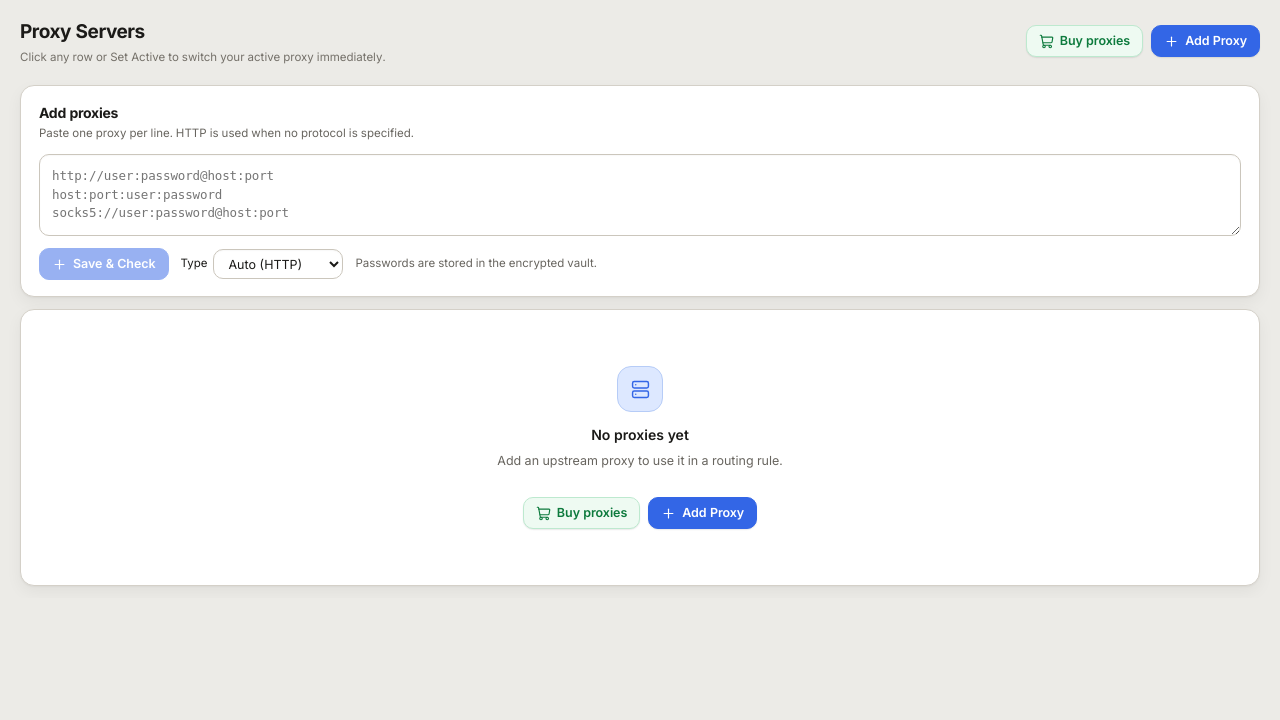
Test: saves and immediately checks proxy from textarea, displaying latency in summary
Replace the text in the text box named "Add proxies" with "1.2.3.4:8080" at {"x": 640, "y": 195}, box [39,154,1241,236]
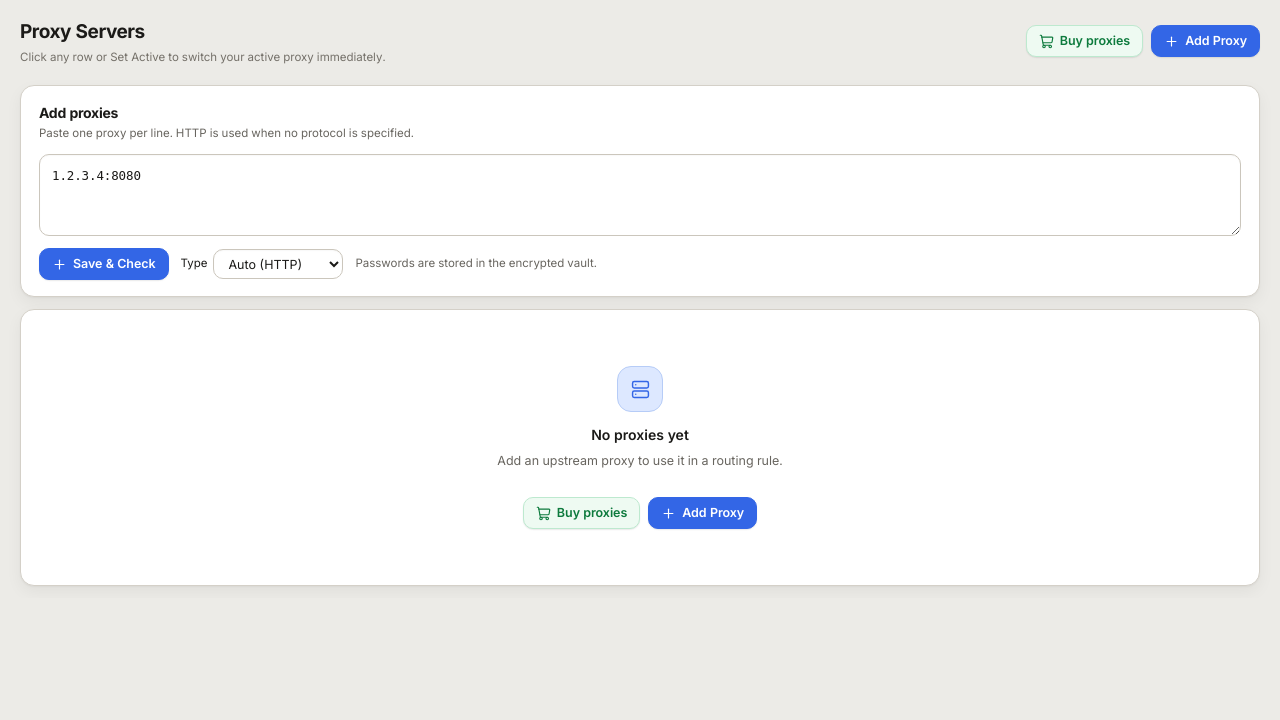
Click the button "Save & Check".
click(104, 264)  # box [39,248,168,280]
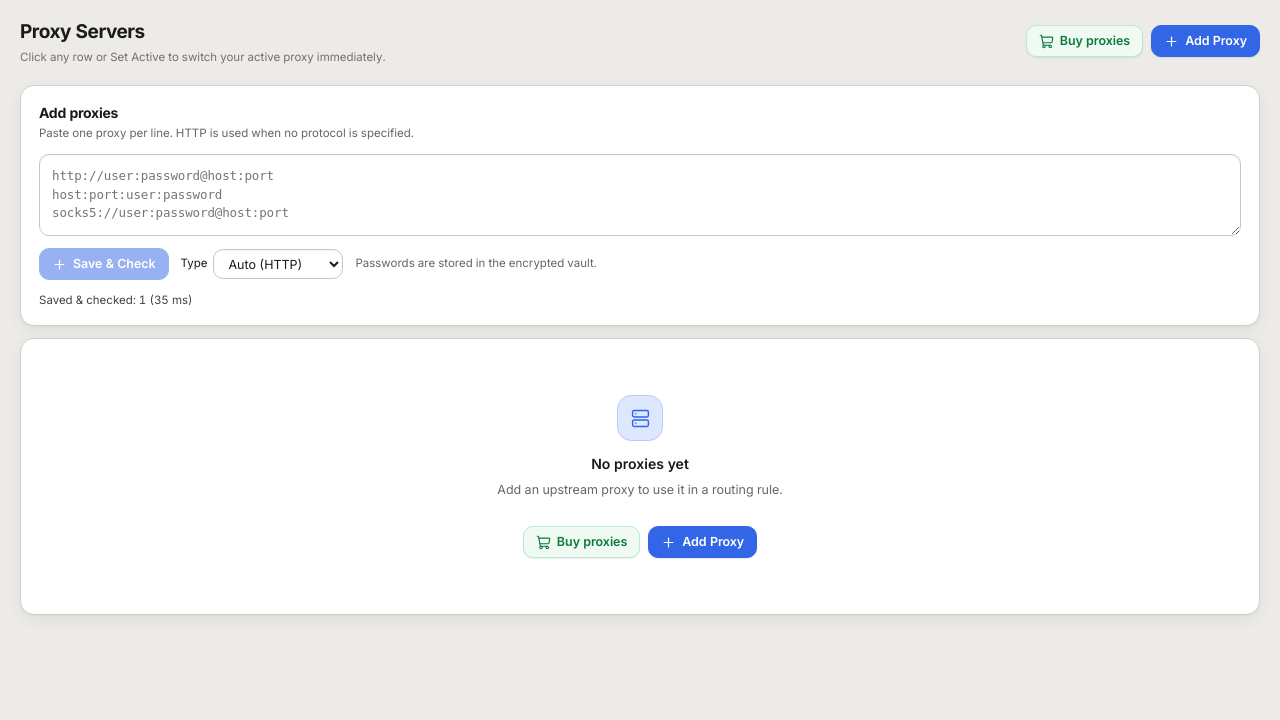
expect the message shows "35 ms": met, box [39,293,192,307]
